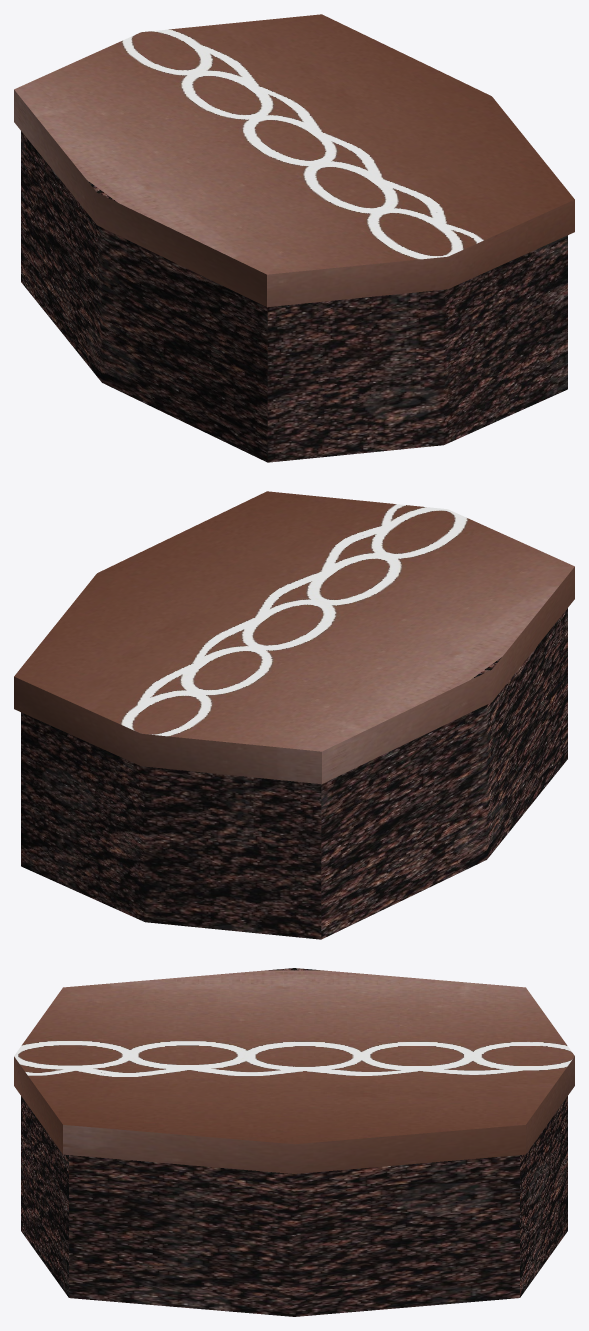
File: Pingu.fbx
The picture shows the model from 3 angles, top to bottom: view 1: azimuth 30°, elevation 25°; view 2: azimuth 150°, elevation 25°; view 3: azimuth 270°, elevation 25°; orthographic projection. The views are drawn at different scales.
Parts seen in each view (by area): view 1: pCube27; view 2: pCube27; view 3: pCube27.
Boxes of the visible parts, box(x1,y1,x2,y2) form: pCube27: box(14, 14, 574, 462); pCube27: box(14, 491, 574, 939); pCube27: box(14, 968, 574, 1316).
Bounding box in the file's own units: 209 × 96.76 × 281.
Materials: 1 (1 with a texture image).
